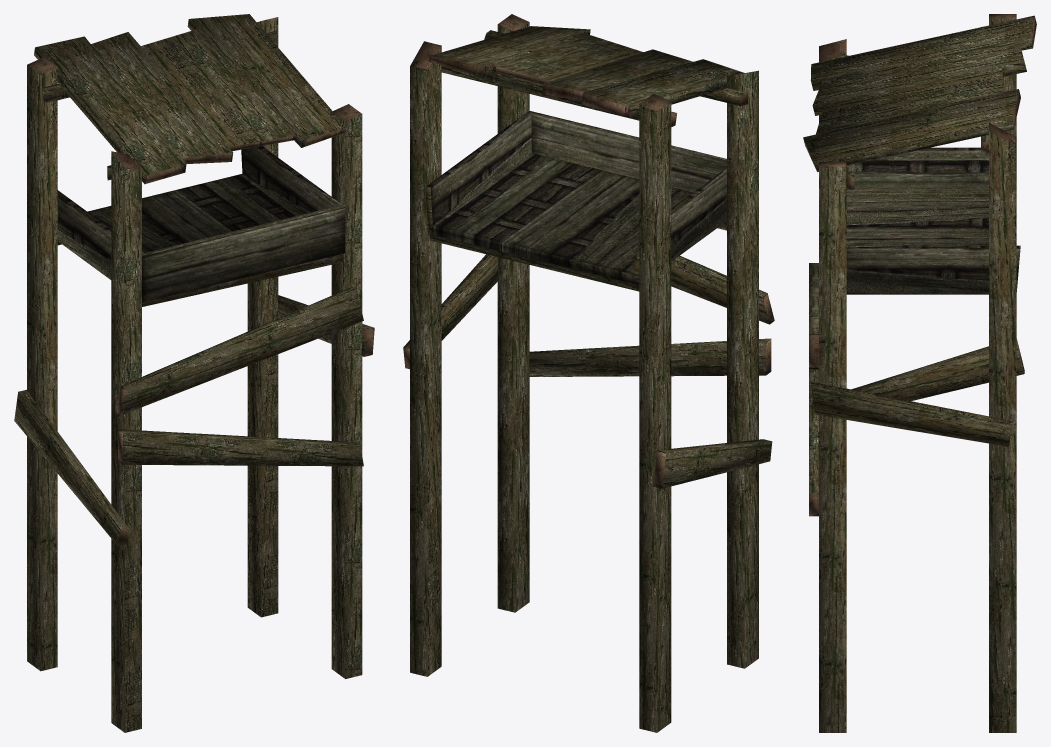
File: OW_LOOKOUT.glb
3 renders of one model, left to right at view 1: azimuth 30°, elevation 25°; view 2: azimuth 150°, elevation 25°; view 3: azimuth 270°, elevation 25°, orthographic. The views are drawn at different scales.
Visible parts, largest first — view 1: Mesh; view 2: Mesh; view 3: Mesh.
Part boxes in pixels (x1,y1,x2,y2): Mesh: [14, 14, 374, 732]; Mesh: [403, 14, 774, 732]; Mesh: [803, 14, 1036, 732].
Size of the model in its own units: 7.6 by 17.02 by 5.91.
Materials: 3 (3 with a texture image).
